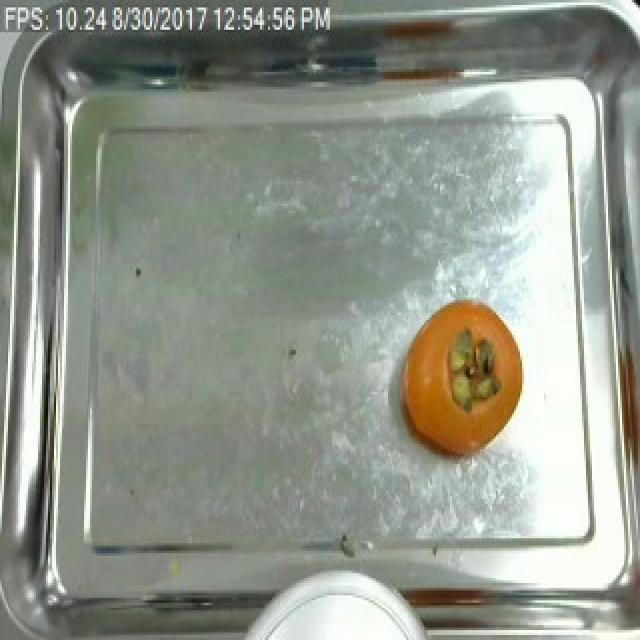Fruit: (400, 293, 530, 461)
